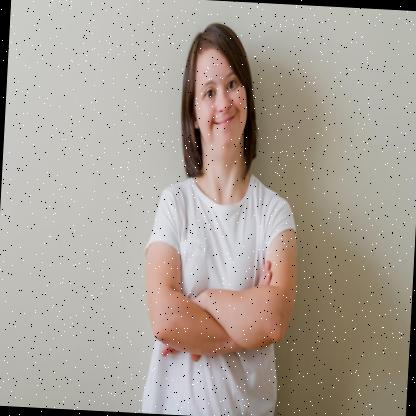sem_capacete: (174, 16, 268, 166)
sem_colete_refletivo: (133, 155, 306, 415)
